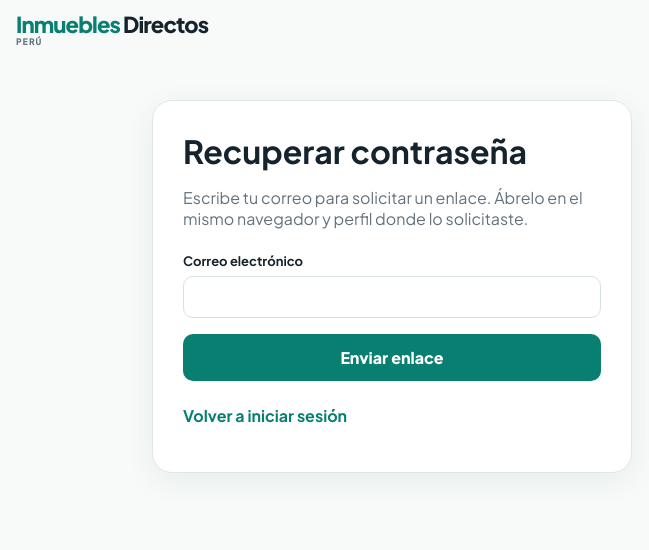
Test: recovery request isolation and enumeration › handles missing configuration safely
Type " QA@example.test " into the field labelled "Correo electrónico".
click(392, 297); type(" QA@example.test ")  # box [183,276,601,318]
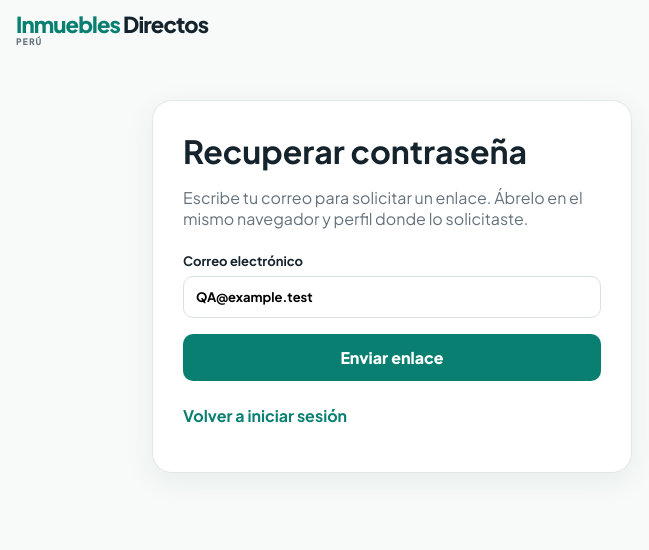
Submit the form labelled "Correo electrónico", box [183,253,601,381]
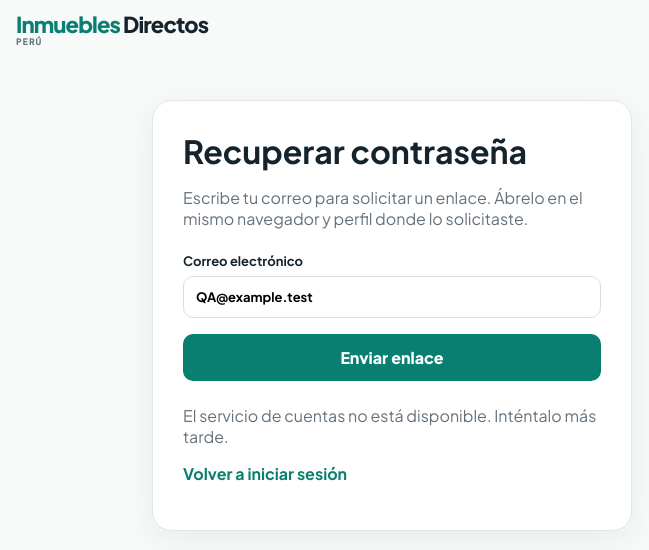
Now the message shows "no está disponible", box [183,405,596,447]
